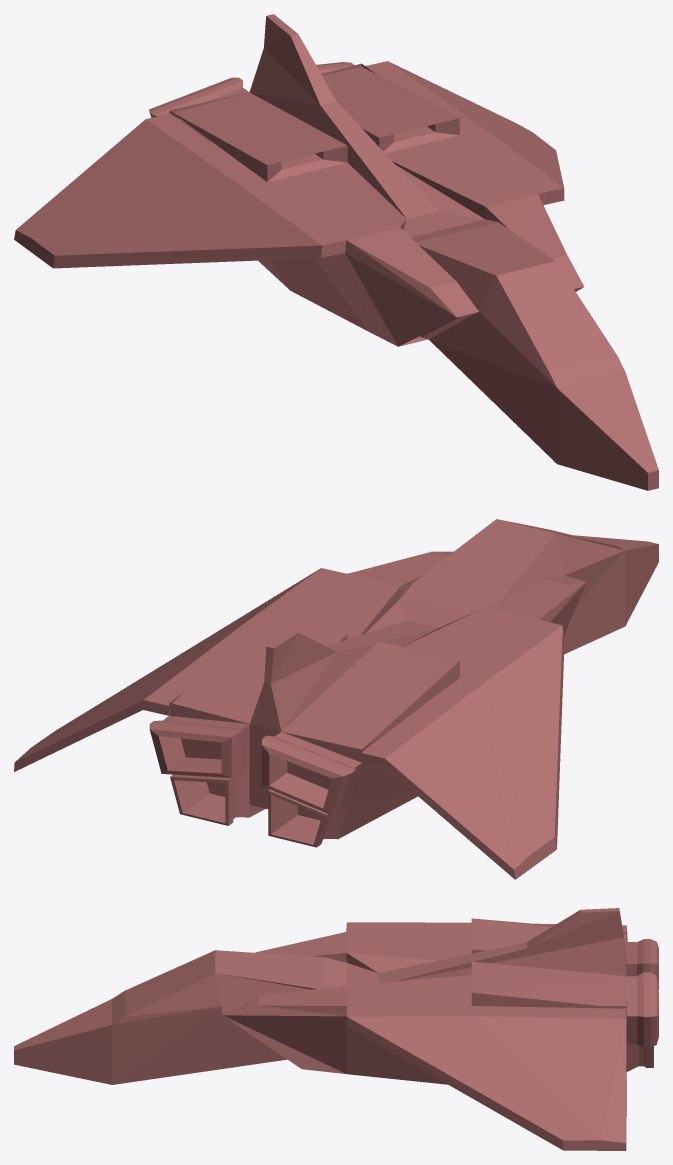
The model's file is spaceship.fbx.
3 views of the same model, one above another, from view 1: azimuth 30°, elevation 25°; view 2: azimuth 150°, elevation 25°; view 3: azimuth 270°, elevation 25° (orthographic). The views are drawn at different scales.
Visible parts, largest first — view 1: SpaceFight; view 2: SpaceFight; view 3: SpaceFight.
Boxes of the visible parts, box(x1,y1,x2,y2) form: SpaceFight: box(14, 14, 658, 490); SpaceFight: box(14, 519, 658, 879); SpaceFight: box(14, 908, 658, 1150).
Bounding box in the file's own units: 183 × 71.51 × 257.
